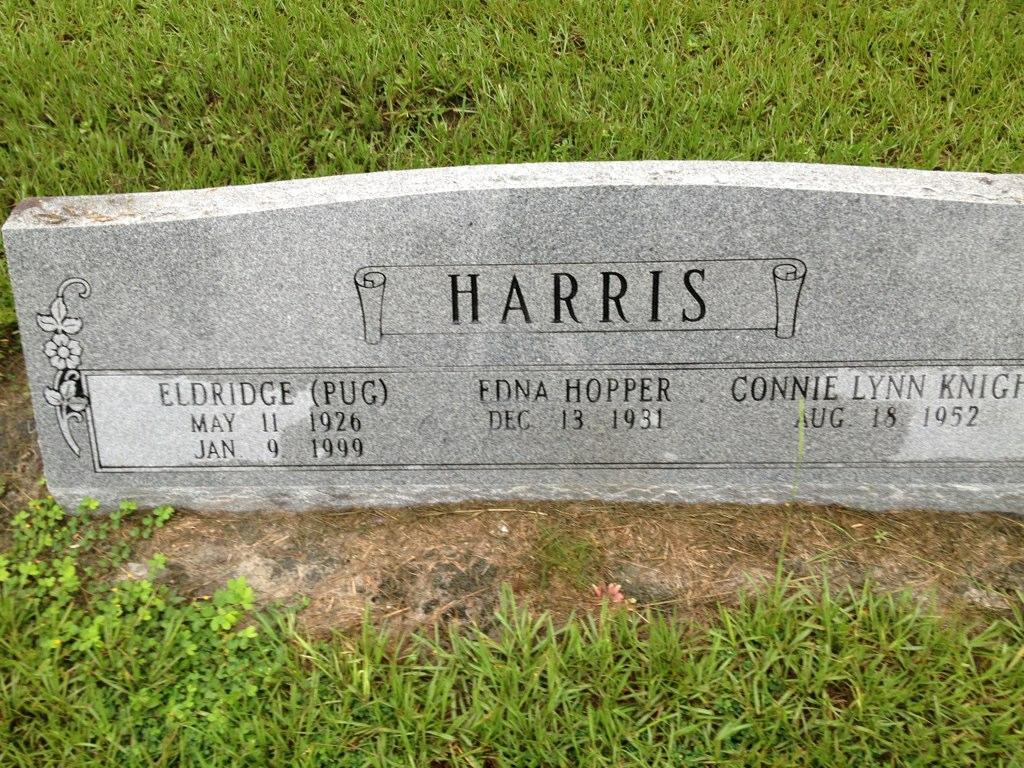upright: (1, 161, 1024, 521)
